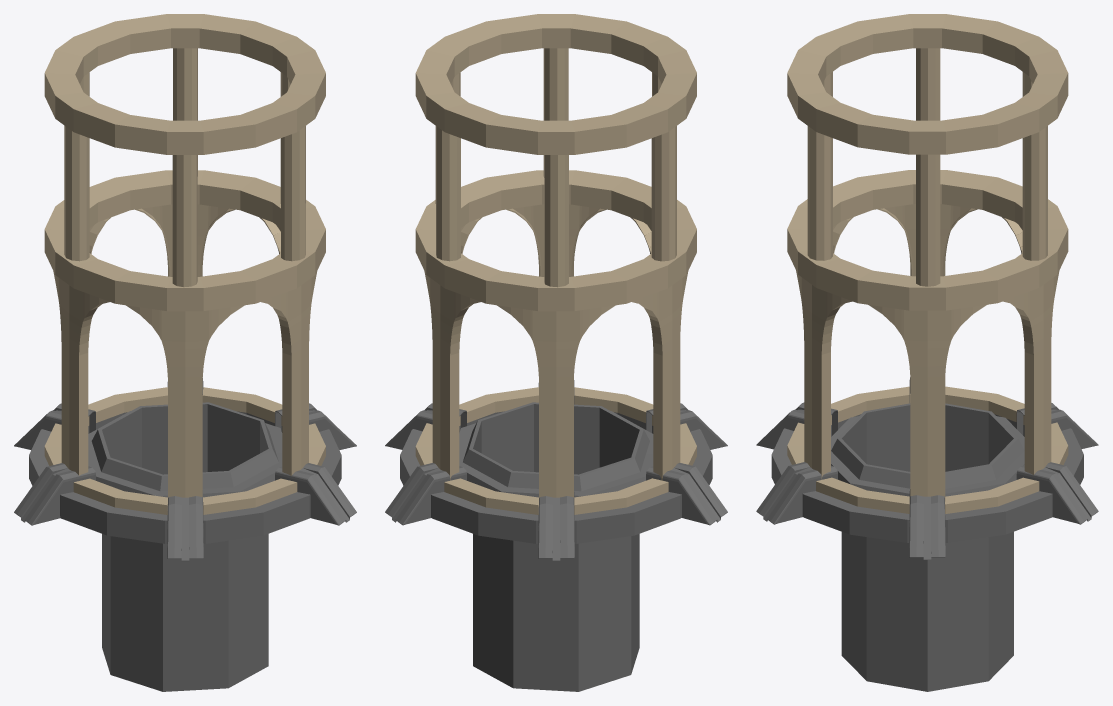
The model's file is tower_base.fbx.
3 renders of one model, left to right at view 1: azimuth 30°, elevation 25°; view 2: azimuth 150°, elevation 25°; view 3: azimuth 270°, elevation 25°, orthographic.
Visible parts, largest first — view 1: Torus, YEDEK.001, YEDEK.008, YEDEK.006, Cube.032, YEDEK.003, YEDEK.002, Cylinder.008, Cylinder.013, Cylinder.010, Cylinder.009; view 2: Torus, YEDEK.001, YEDEK.008, YEDEK.006, Cube.032, YEDEK.003, YEDEK.002, Cylinder.013, Cylinder.011, Cylinder.009, Cylinder.010; view 3: Torus, YEDEK.001, YEDEK.008, YEDEK.006, Cube.032, YEDEK.003, YEDEK.002, Cylinder.010, Cylinder.009, Cylinder.012, Cylinder.013.
Boxes of the visible parts, x1=… form: Torus: x1=88, y1=402, x2=282, y2=691; YEDEK.001: x1=53, y1=204, x2=317, y2=497; YEDEK.008: x1=44, y1=14, x2=325, y2=154; YEDEK.006: x1=44, y1=170, x2=325, y2=311; Cube.032: x1=14, y1=378, x2=356, y2=561; YEDEK.003: x1=29, y1=411, x2=341, y2=543; YEDEK.002: x1=44, y1=387, x2=325, y2=514; Cylinder.008: x1=172, y1=155, x2=197, y2=287; Cylinder.013: x1=64, y1=125, x2=89, y2=261; Cylinder.010: x1=281, y1=126, x2=305, y2=261; Cylinder.009: x1=173, y1=48, x2=197, y2=176; Torus: x1=459, y1=402, x2=653, y2=691; YEDEK.001: x1=424, y1=204, x2=688, y2=497; YEDEK.008: x1=415, y1=14, x2=696, y2=154; YEDEK.006: x1=415, y1=170, x2=696, y2=311; Cube.032: x1=385, y1=380, x2=727, y2=560; YEDEK.003: x1=400, y1=411, x2=712, y2=543; YEDEK.002: x1=415, y1=387, x2=696, y2=514; Cylinder.013: x1=651, y1=126, x2=676, y2=261; Cylinder.011: x1=544, y1=155, x2=568, y2=287; Cylinder.009: x1=436, y1=126, x2=460, y2=261; Cylinder.010: x1=543, y1=48, x2=568, y2=177; Torus: x1=831, y1=403, x2=1024, y2=691; YEDEK.001: x1=796, y1=204, x2=1059, y2=501; YEDEK.008: x1=787, y1=14, x2=1068, y2=154; YEDEK.006: x1=787, y1=170, x2=1068, y2=310; Cube.032: x1=756, y1=377, x2=1098, y2=559; YEDEK.003: x1=771, y1=414, x2=1083, y2=542; YEDEK.002: x1=787, y1=386, x2=1068, y2=513; Cylinder.010: x1=807, y1=126, x2=832, y2=260; Cylinder.009: x1=1022, y1=126, x2=1047, y2=260; Cylinder.012: x1=916, y1=154, x2=940, y2=286; Cylinder.013: x1=916, y1=48, x2=940, y2=120.
Size of the model in its own units: 541 by 927 by 494.
